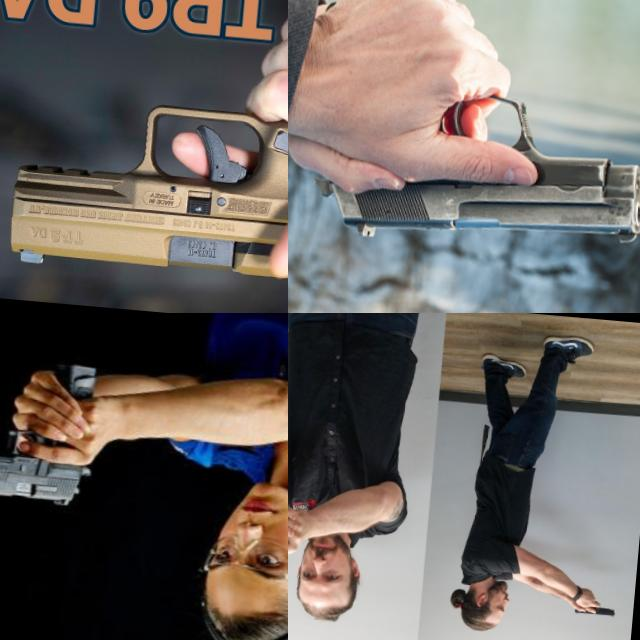handgun: (2, 0, 288, 307), (301, 67, 640, 264), (0, 350, 101, 511), (288, 518, 318, 573), (570, 590, 618, 622), (288, 550, 312, 579)
